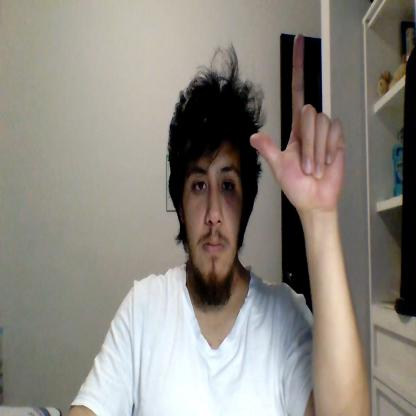L: (250, 34, 345, 210)
